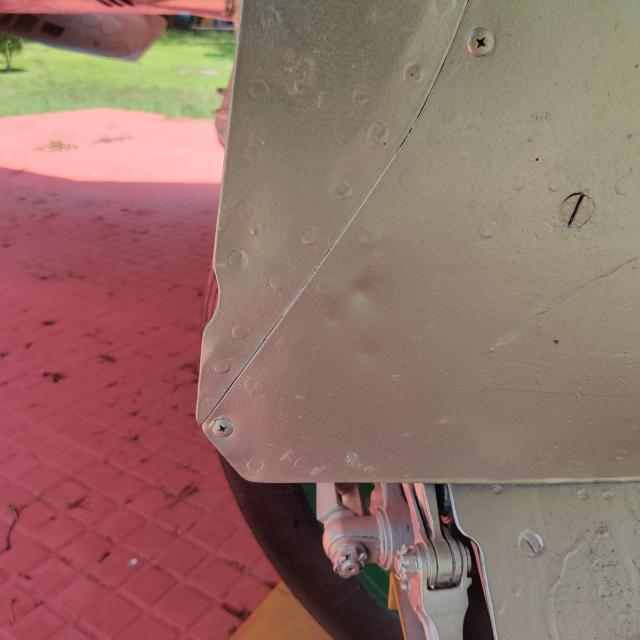dent: (316, 252, 399, 335)
